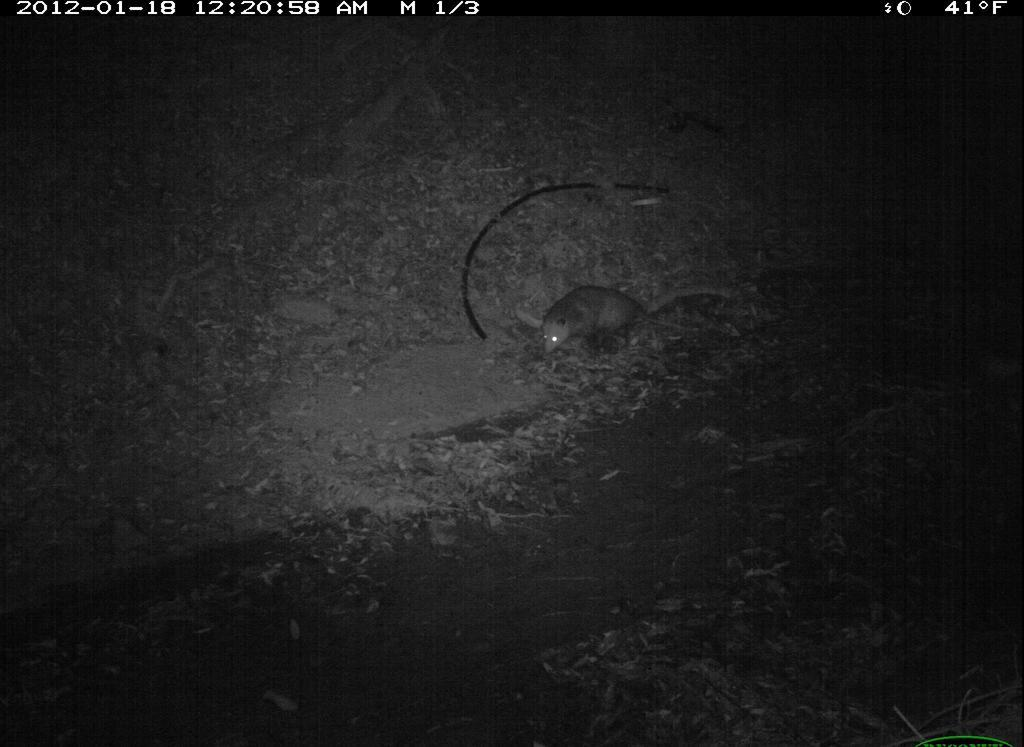opossum: (521, 273, 728, 373)
